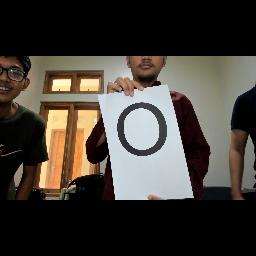o: (112, 102, 170, 158)
